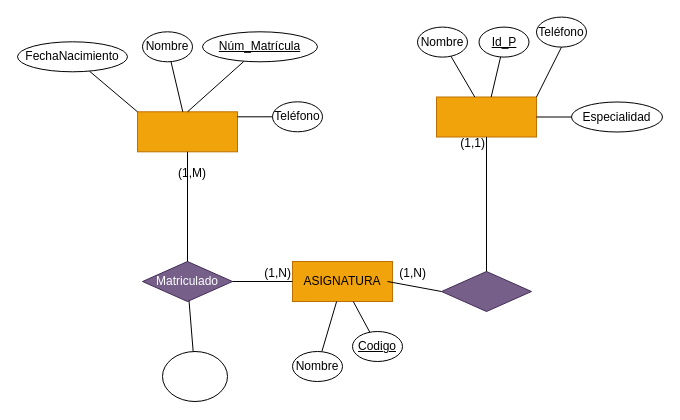
This 680x420 diagram has some shape labels left out. Each missing label, with the centre of its shape:
"ALUMNO" belongs at point 187,131.
"Curso escolar" belongs at point 195,376.
"impartida" belongs at point 486,291.
"PROFESOR" belongs at point 486,116.
